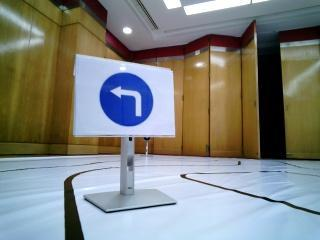left: (78, 55, 173, 138)
